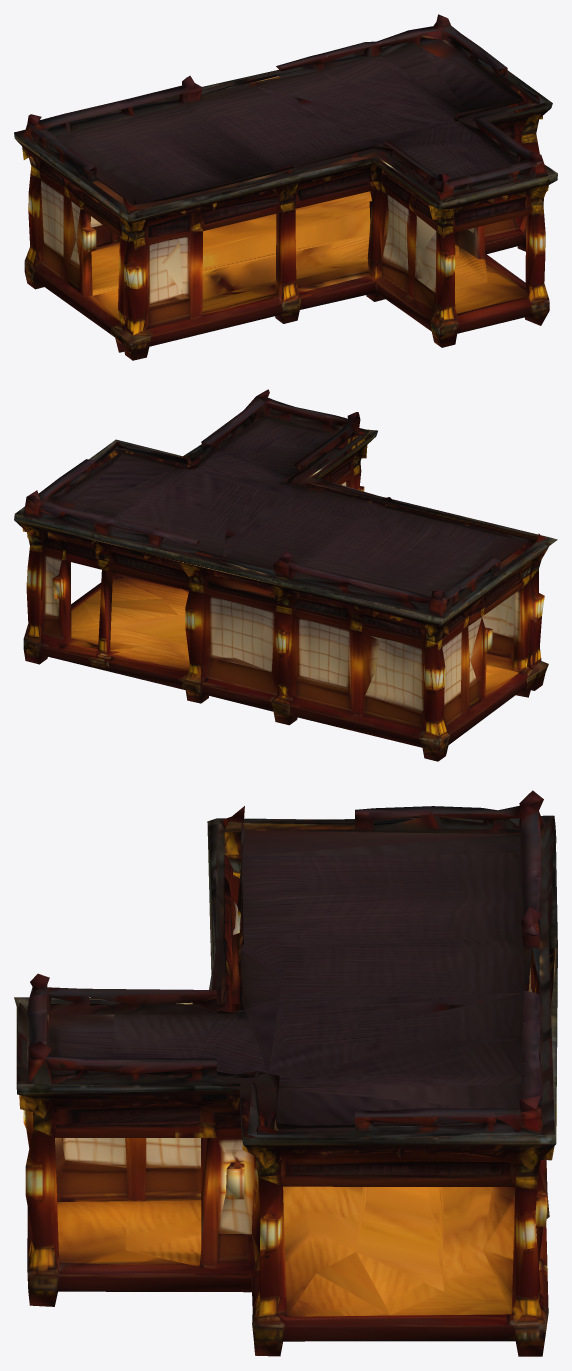
The model's file is HallWay3Way_LOD2.fbx.
The picture shows the model from 3 angles, top to bottom: view 1: azimuth 30°, elevation 25°; view 2: azimuth 150°, elevation 25°; view 3: azimuth 270°, elevation 25°; orthographic projection. The views are drawn at different scales.
Visible parts, largest first — view 1: HallWay3Way_LOD2; view 2: HallWay3Way_LOD2; view 3: HallWay3Way_LOD2.
Part boxes in pixels (x1,y1,x2,y2): HallWay3Way_LOD2: [14, 14, 557, 360]; HallWay3Way_LOD2: [14, 389, 557, 761]; HallWay3Way_LOD2: [14, 790, 557, 1356].
Size of the model in its own units: 12.09 by 4.63 by 8.66.
Materials: 1 (1 with a texture image).
